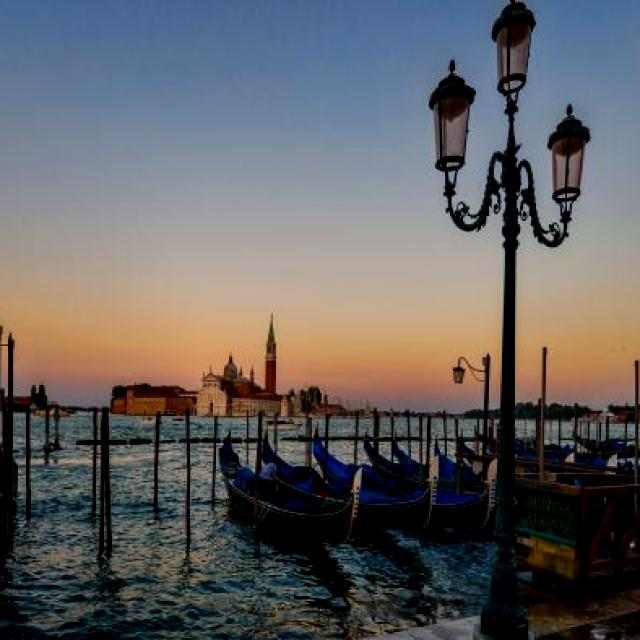ship: (314, 422, 498, 532), (263, 423, 439, 529), (218, 429, 362, 546)
